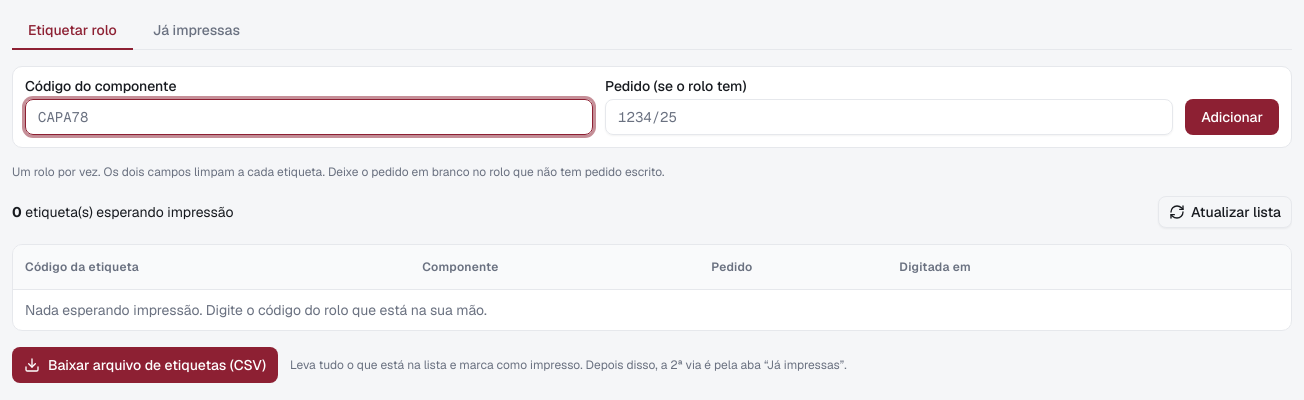
Test case: 2ª via das já impressas › a leva pequena não fala de teto e conta as linhas da tela
Click the button "Já impressas".
click(196, 31)  # box [137, 12, 256, 50]
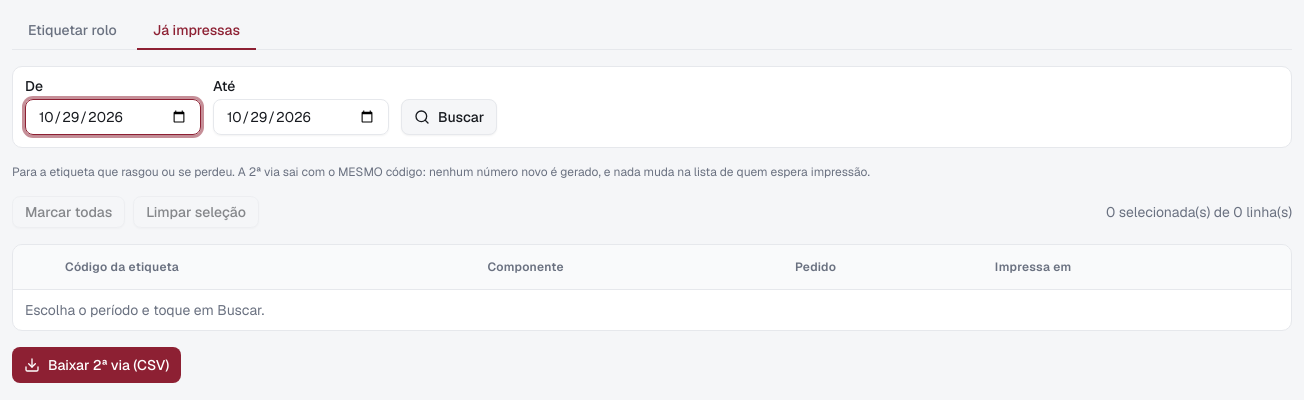
Click the button "Buscar".
click(449, 117)  # box [401, 99, 497, 135]
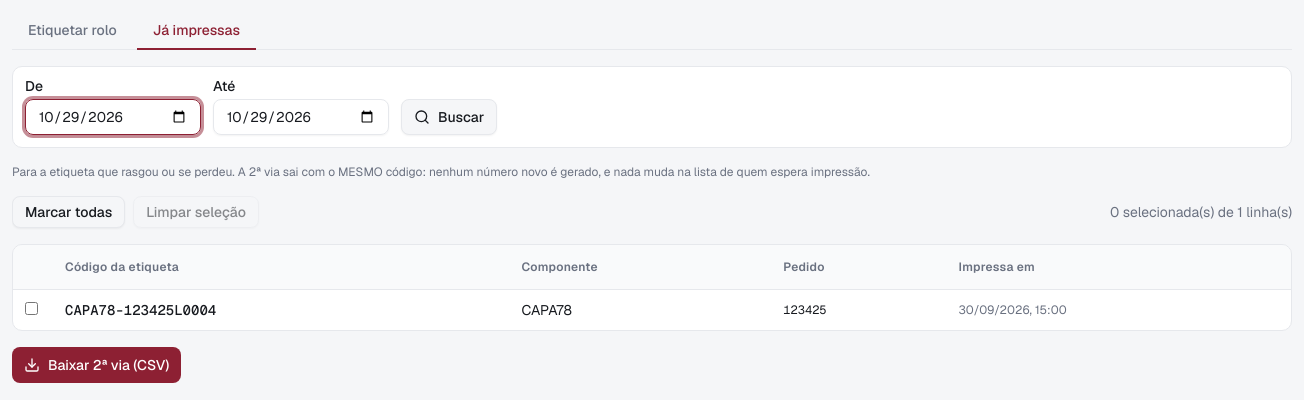
Expected: the text "0 selecionada(s) de 1 linha(s)" is shown, [1110, 202, 1292, 222]
